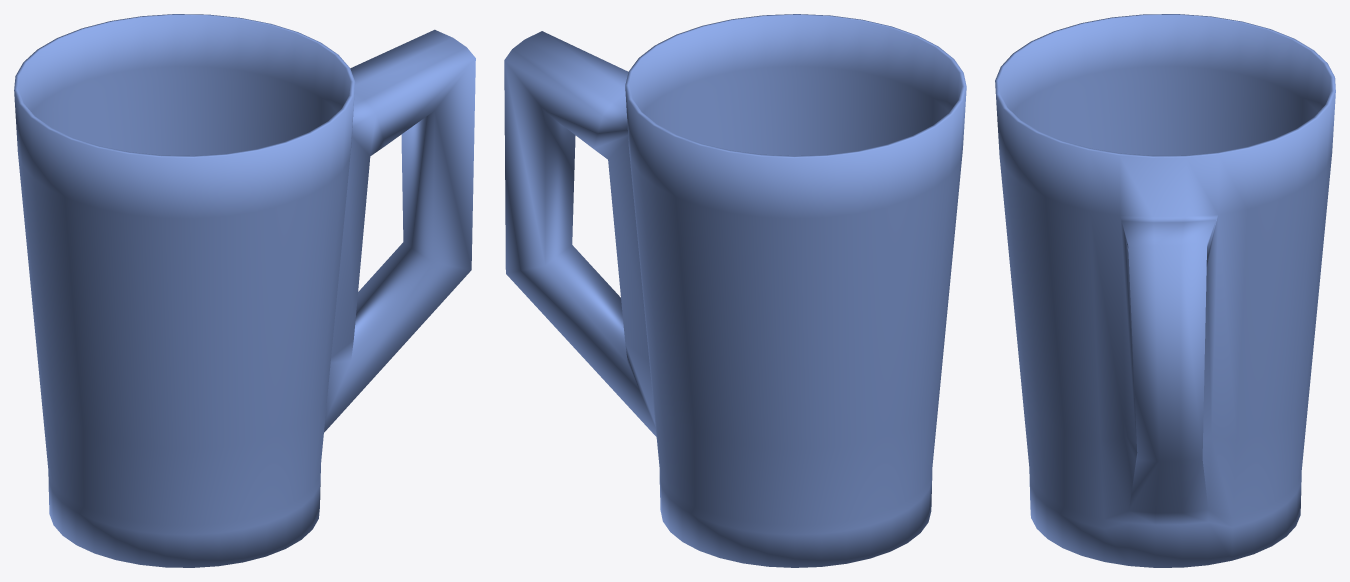
The model's file is tazza_3.glb.
3 views of the same model, side by side, from view 1: azimuth 30°, elevation 25°; view 2: azimuth 150°, elevation 25°; view 3: azimuth 270°, elevation 25° (orthographic).
Parts seen in each view (by area): view 1: Mug-blue; view 2: Mug-blue; view 3: Mug-blue.
Part boxes in pixels (x1=…): Mug-blue: x1=14, y1=14, x2=475, y2=567; Mug-blue: x1=504, y1=14, x2=966, y2=567; Mug-blue: x1=995, y1=14, x2=1335, y2=567.
Bounding box in the file's own units: 2.59 × 2.49 × 1.8.
